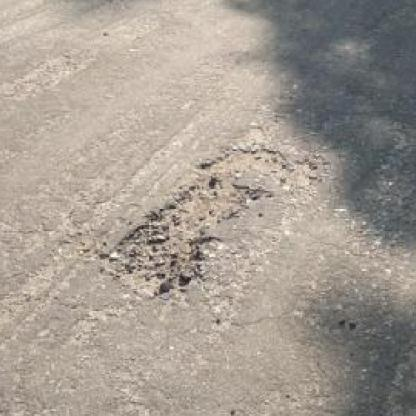pothole: (91, 142, 292, 296)
